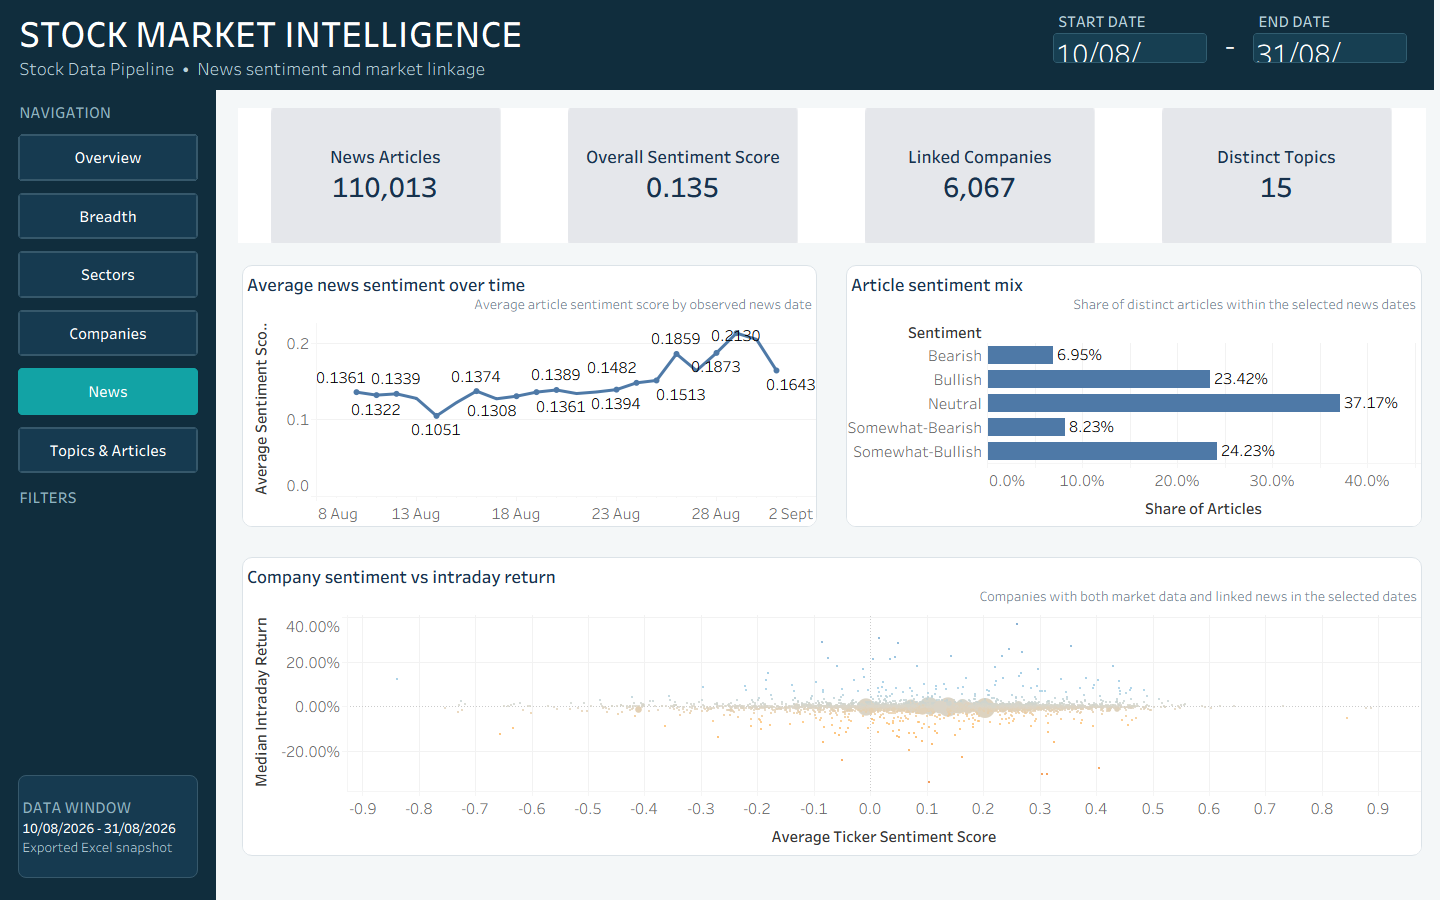

The dashboard page shown, as its layout file describes it:
{"tool":"tableau","page":{"name":"05. News Sentiment","canvas":[1440,900],"ordinal":4},"visuals":[{"type":"blank","box":[0,0,1440,900]},{"type":"text","box":[0,0,1434,90]},{"type":"text","box":[1055,10,150,22]},{"type":"text","box":[1255,10,160,22]},{"type":"parameter","param":"[Parameters].[Parameter 1300762280890369]","box":[1050,30,160,36]},{"type":"text","box":[1176,30,108,28]},{"type":"parameter","param":"[Parameters].[Parameter 1300762280984578]","box":[1250,30,160,36]},{"type":"blank","box":[0,90,216,810]},{"type":"text","box":[14.4,99,187.2,27]},{"type":"worksheet","title":"05. News Sentiment KPIs","mark":"Text","cols":["Calculation_KPIAxis1","Calculation_KPIAxis2","Calculation_KPIAxis3","Calculation_KPIAxis4"],"box":[237.6,108,1188,135]},{"type":"dashboard-object","box":[14.4,130.5,187.2,54]},{"type":"dashboard-object","box":[14.4,189,187.2,54]},{"type":"dashboard-object","box":[14.4,247.5,187.2,54]},{"type":"worksheet","title":"News Sentiment Trend","mark":"Line","rows":["overall_sentiment_score"],"cols":["date (dim!time1)"],"box":[237.6,261,583.2,270]},{"type":"worksheet","title":"News Sentiment Mix","mark":"Bar","rows":["overall_sentiment_label"],"box":[842.4,261,583.2,270]},{"type":"dashboard-object","box":[14.4,306,187.2,54]},{"type":"dashboard-object","box":[14.4,364.5,187.2,54]},{"type":"dashboard-object","box":[14.4,423,187.2,54]},{"type":"text","box":[14.4,486,187.2,22.5]},{"type":"worksheet","title":"Company Sentiment vs Return","mark":"Circle","rows":["Calculation_DailyReturn"],"cols":["ticker_sentiment_score"],"box":[237.6,553.5,1188,306]},{"type":"text","box":[14,771,188,111]},{"type":"text","box":[15,809,172,38]}]}

Visuals, with their boxes in screenshot pixels (x1, y1, x2, y2), scaled from the page's 1440x900 canvas onto the 1440x900 screenshot:
blank: box(0, 0, 1439, 899)
text: box(0, 0, 1434, 90)
text: box(1055, 10, 1205, 32)
text: box(1255, 10, 1415, 32)
parameter: box(1050, 30, 1210, 66)
text: box(1176, 30, 1284, 58)
parameter: box(1250, 30, 1410, 66)
blank: box(0, 90, 216, 899)
text: box(14, 99, 202, 126)
"05. News Sentiment KPIs" worksheet (Text marks): box(238, 108, 1426, 243)
dashboard-object: box(14, 130, 202, 184)
dashboard-object: box(14, 189, 202, 243)
dashboard-object: box(14, 248, 202, 302)
"News Sentiment Trend" worksheet (Line marks): box(238, 261, 821, 531)
"News Sentiment Mix" worksheet (Bar marks): box(842, 261, 1426, 531)
dashboard-object: box(14, 306, 202, 360)
dashboard-object: box(14, 364, 202, 418)
dashboard-object: box(14, 423, 202, 477)
text: box(14, 486, 202, 508)
"Company Sentiment vs Return" worksheet (Circle marks): box(238, 554, 1426, 860)
text: box(14, 771, 202, 882)
text: box(15, 809, 187, 847)
